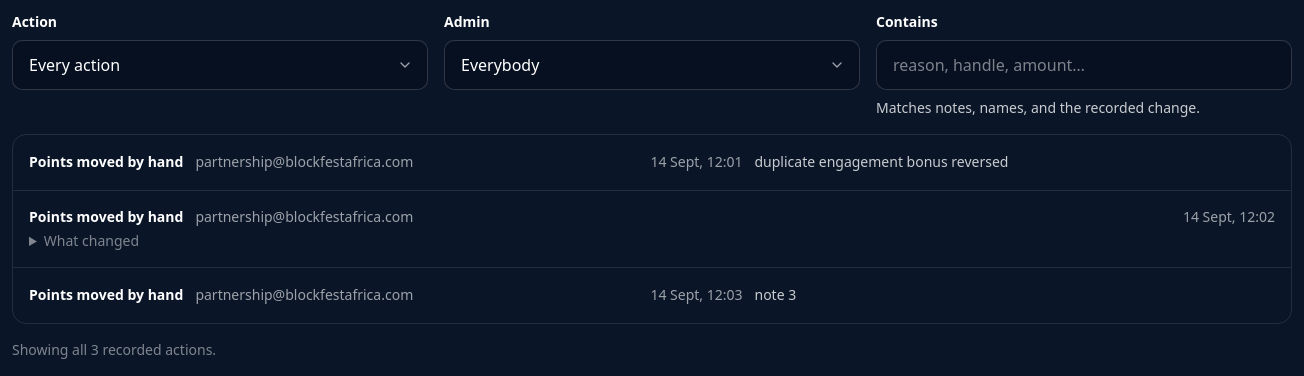
Test case: the audit table › searches notes and the recorded change together
In the search field labelled "Contains": point(1084, 65) [876,40,1292,90], type "tiktok"
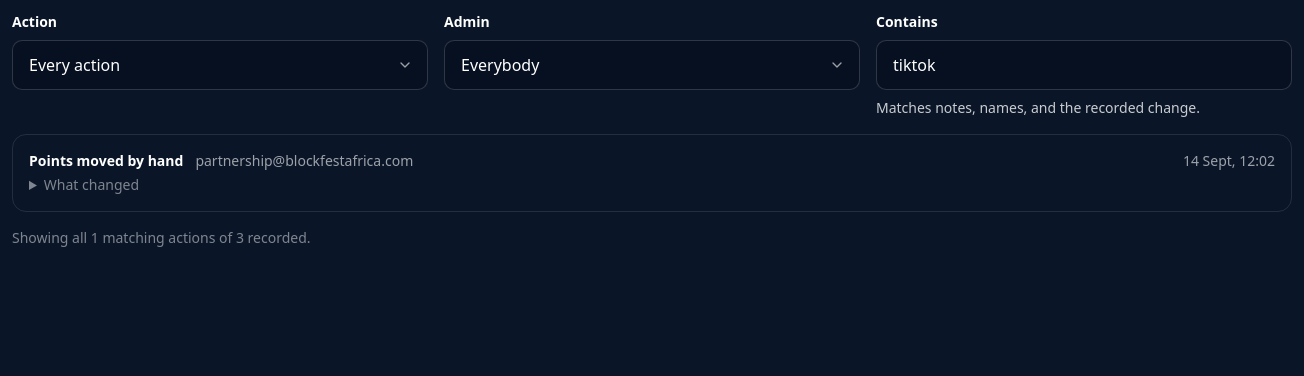
Check: the text "duplicate engagement bonus reversed" is gone
Check: the text "Showing all 1 matching actions of 3 recorded." is shown, box [12,228,310,247]
